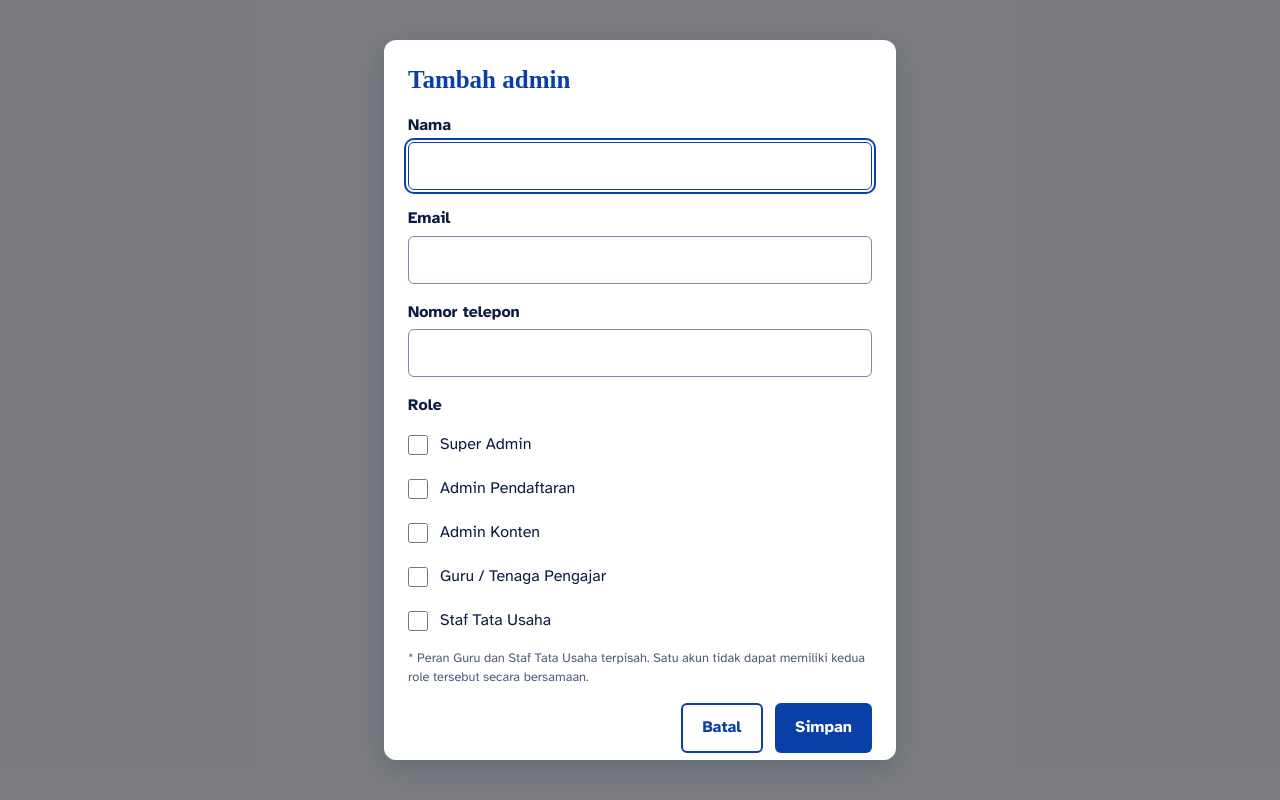
Test: UserFormModal — tambah admin › 422 dari server dipetakan ke kolomnya dan dialog tetap terbuka
The width and height of the screenshot is (1280, 800).
Type "Dewi" into the field labelled "Nama" at (640, 166), box [408,142,872,190]
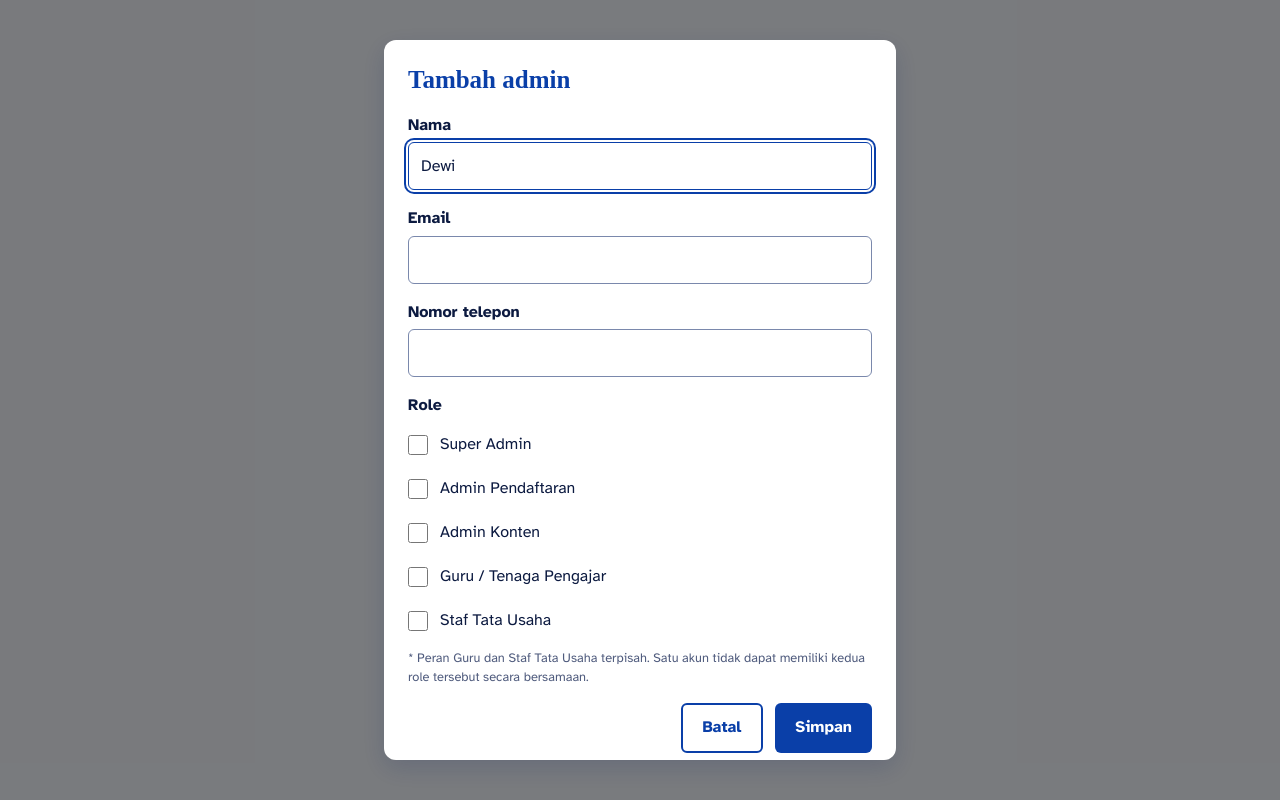
Type "dewi@padindi.test" into the field labelled "Email" at (640, 260), box [408,236,872,284]
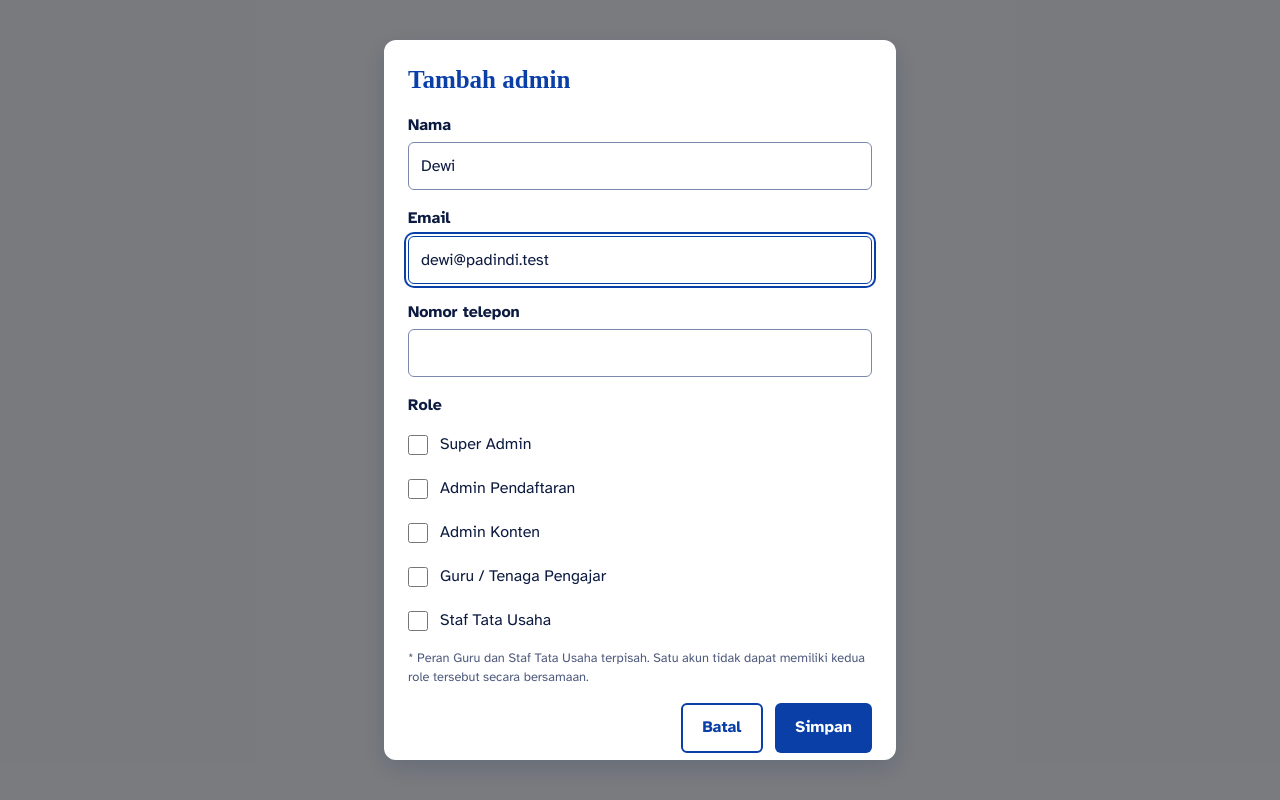
Click the checkbox labelled "Admin Konten" at (418, 533), box [408,523,428,543]
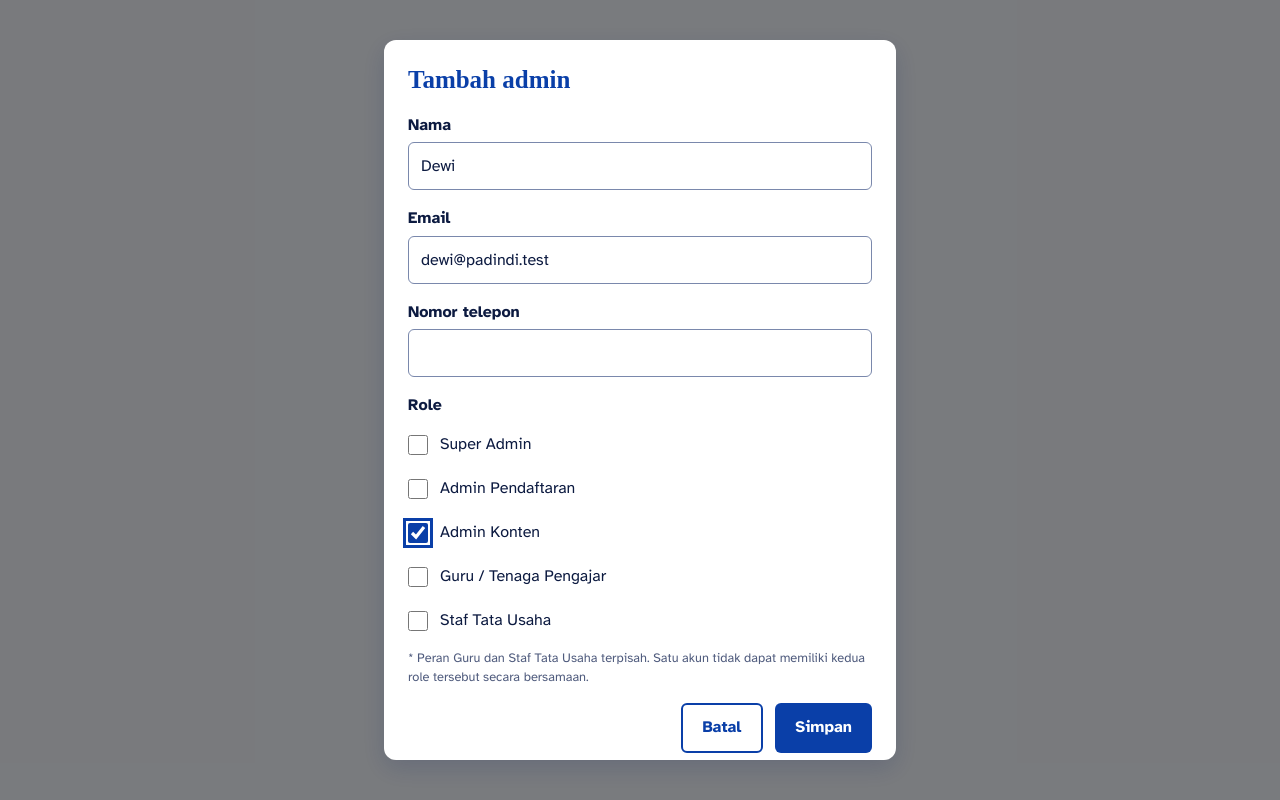
Click the button "Simpan" at (824, 728), box [775,703,872,753]
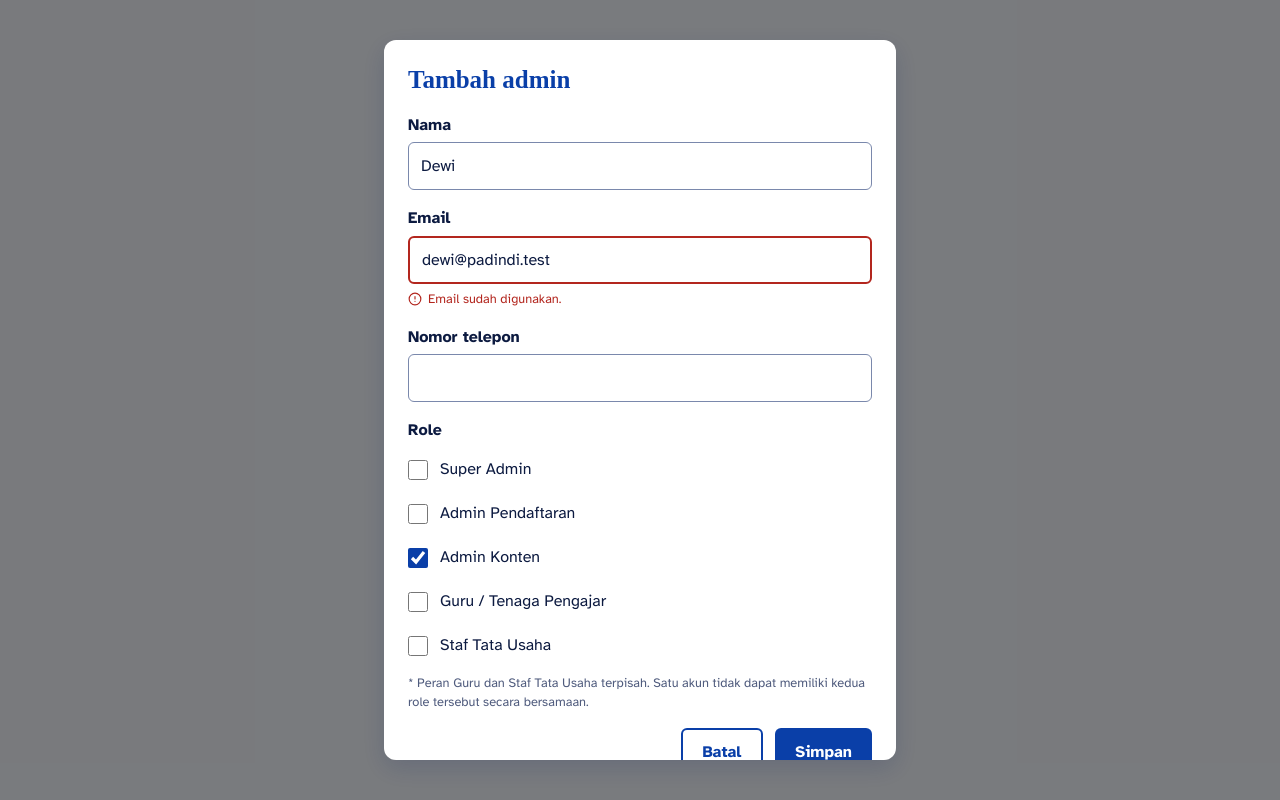
Now the text "Email sudah digunakan." is shown, box [428,290,562,309]
